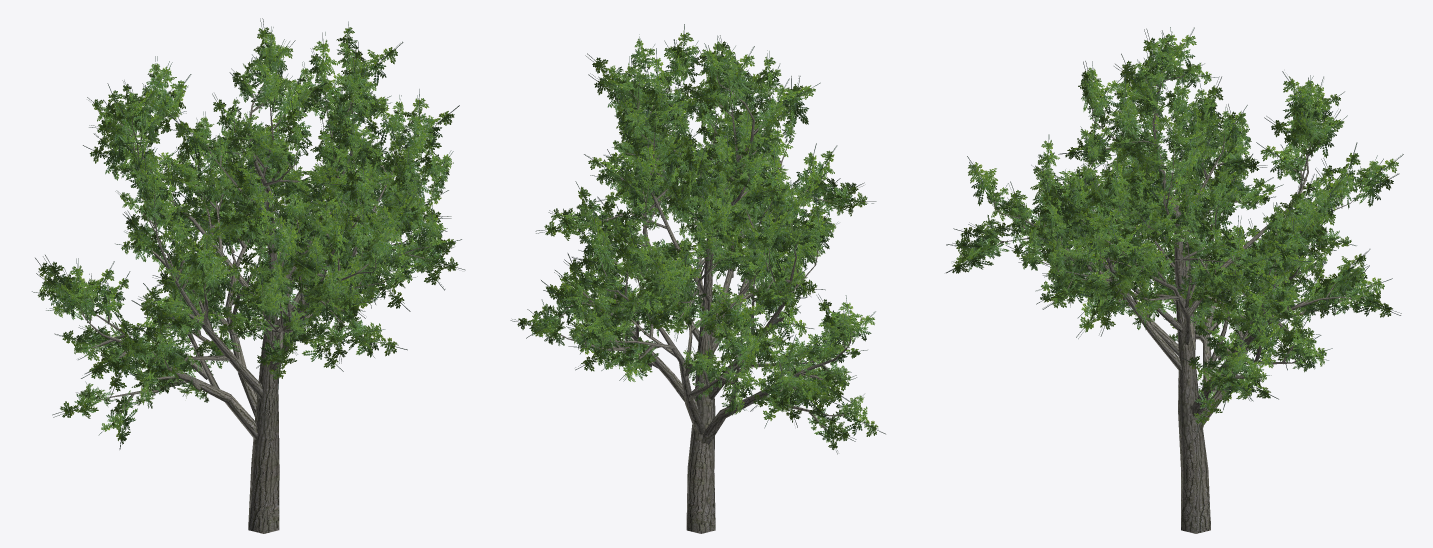
The model's file is ash-large-lod1-20m.glb.
3 views of the same model, side by side, from view 1: azimuth 30°, elevation 25°; view 2: azimuth 150°, elevation 25°; view 3: azimuth 270°, elevation 25° (orthographic). The views are drawn at different scales.
Visible parts, largest first — view 1: Ash Large LOD1 (scaled to 20m); view 2: Ash Large LOD1 (scaled to 20m); view 3: Ash Large LOD1 (scaled to 20m).
Part boxes in pixels (box(x1,y1,x2,y2)): Ash Large LOD1 (scaled to 20m): box(32, 18, 465, 533); Ash Large LOD1 (scaled to 20m): box(510, 24, 885, 533); Ash Large LOD1 (scaled to 20m): box(946, 27, 1403, 533).
Bounding box in the file's own units: 15.57 × 20.4 × 17.96.
Materials: 2 (2 with a texture image).
